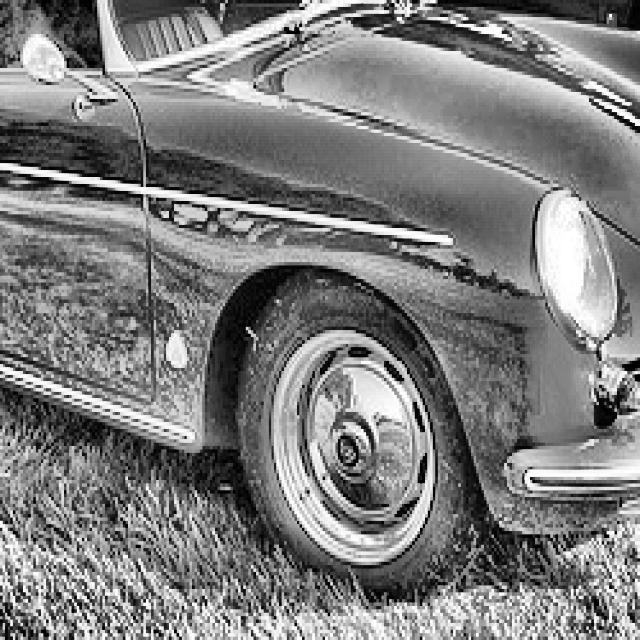light_vehicle: (0, 0, 640, 586)
